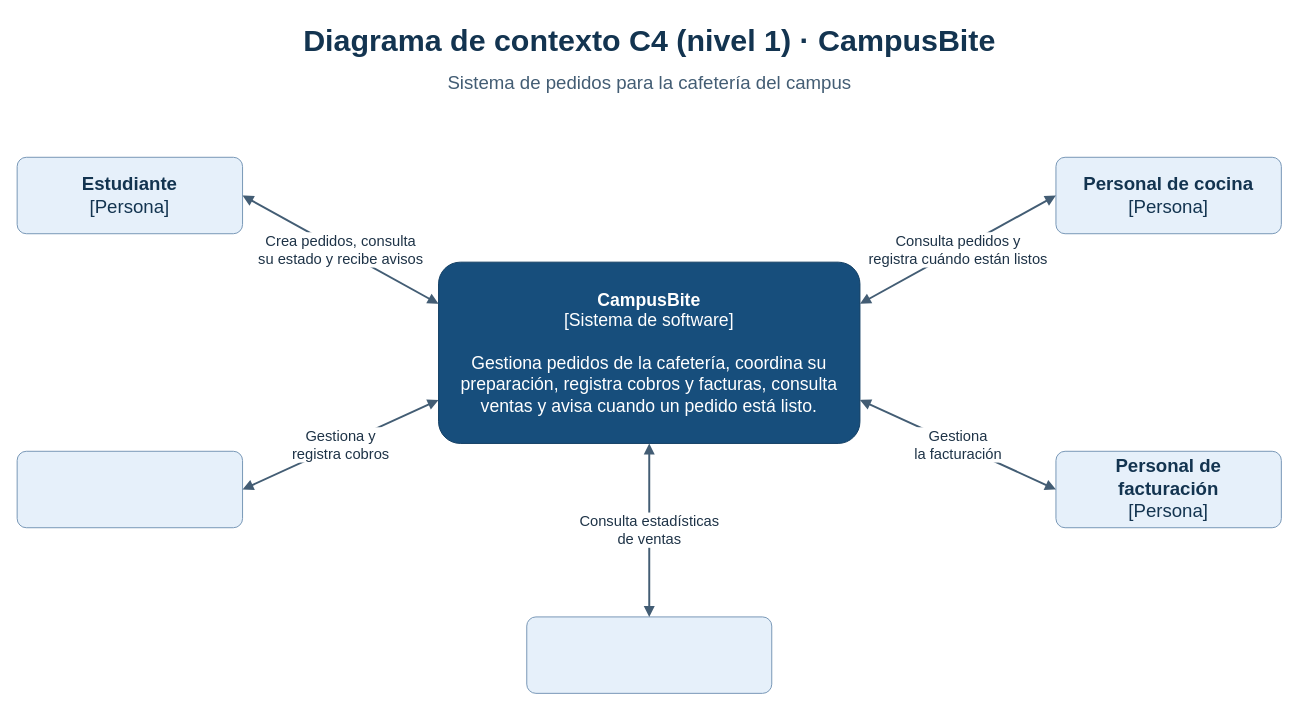
This 1299x711 diagram has some shape labels left out. Each missing label, with the centre of its shape:
"Administración [Persona]" belongs at point 649,654.
"Personal de caja [Persona]" belongs at point 129,489.
